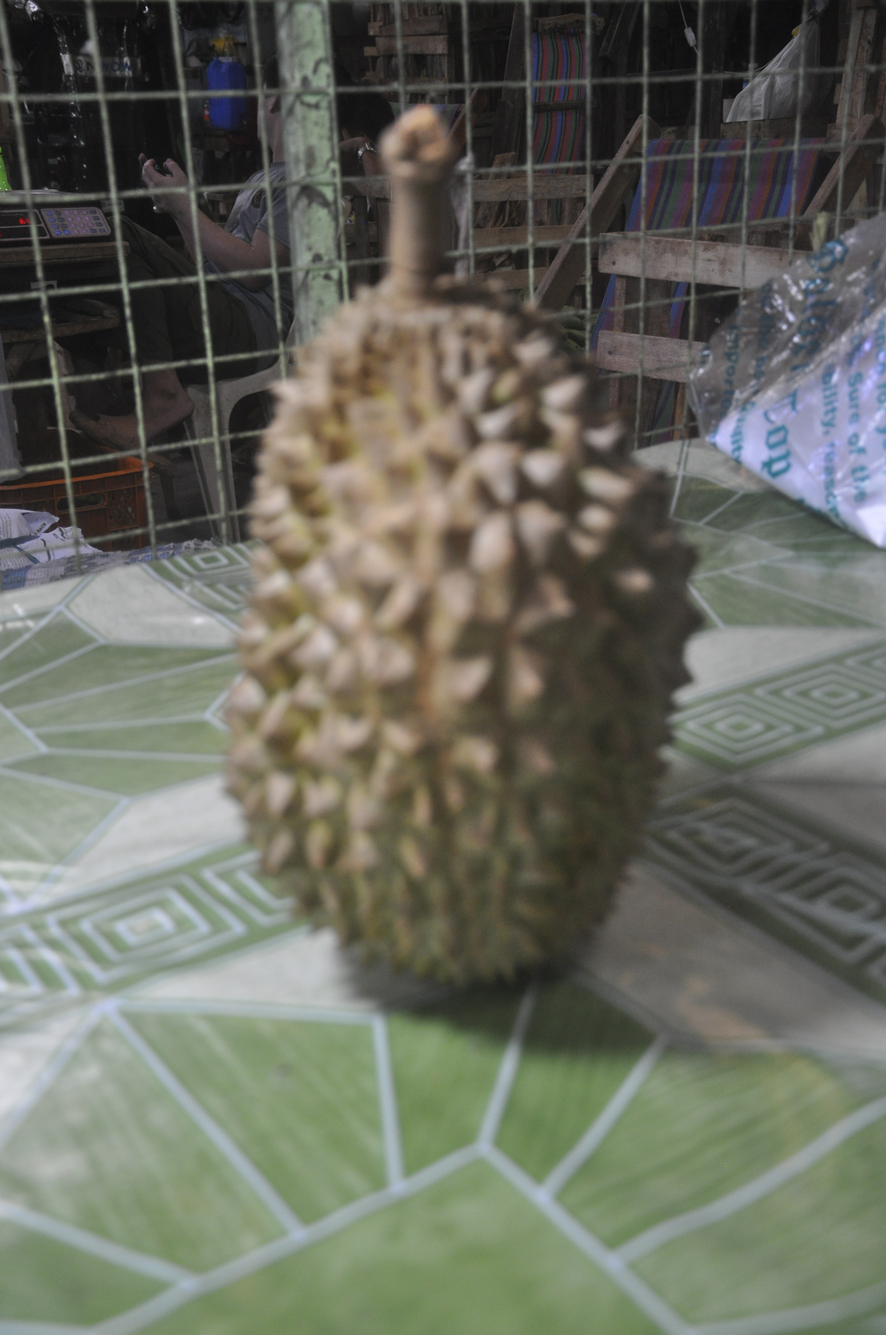mature: (230, 109, 694, 982)
